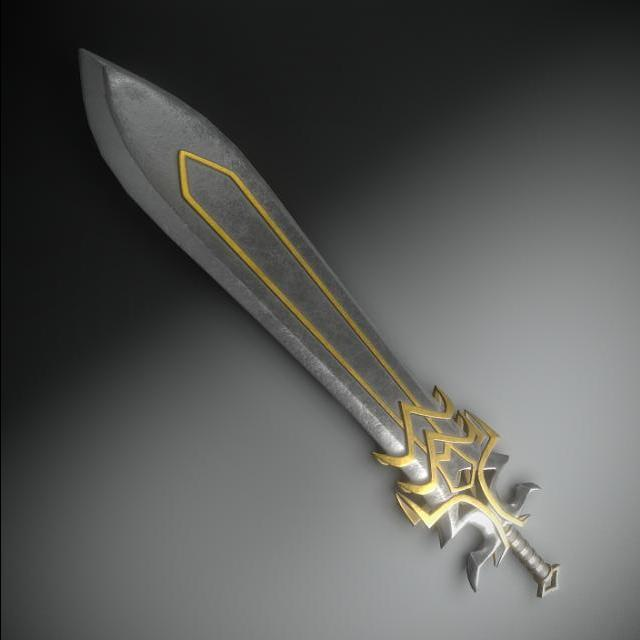sword: (77, 50, 564, 599)
